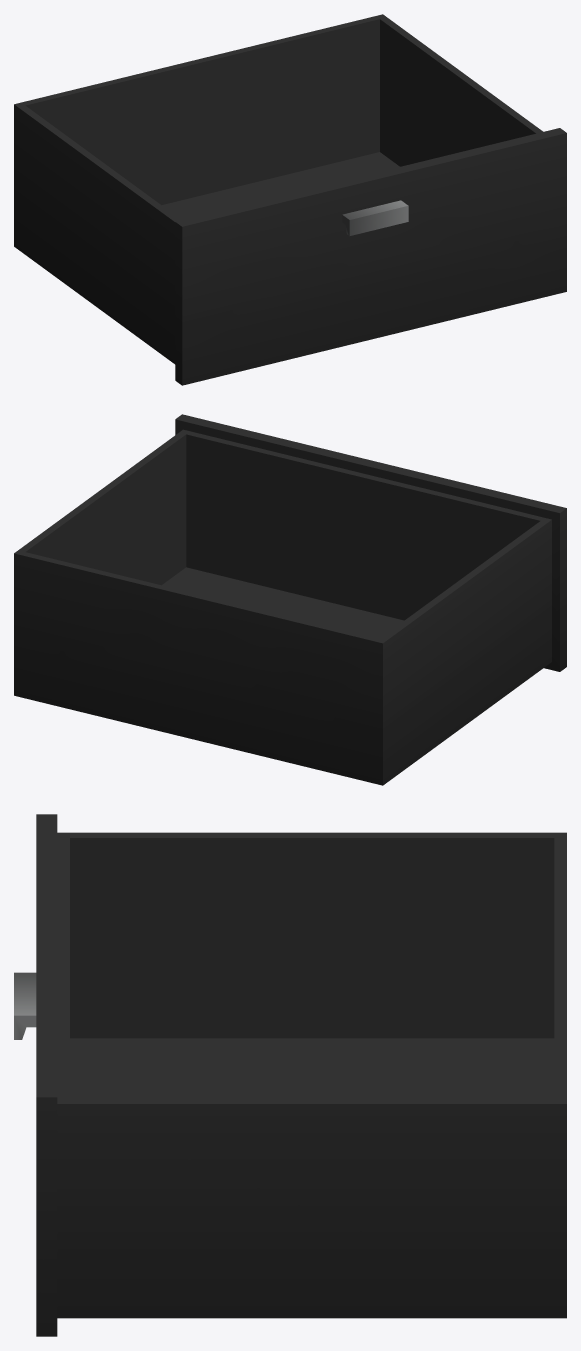
Rendered from Drawer_SideboardCabinet_Black_large.fbx.
The picture shows the model from 3 angles, top to bottom: view 1: azimuth 30°, elevation 25°; view 2: azimuth 150°, elevation 25°; view 3: azimuth 270°, elevation 25°; orthographic projection. The views are drawn at different scales.
Visible parts, largest first — view 1: Drawer_SideboardCabinet_Black_large; view 2: Drawer_SideboardCabinet_Black_large; view 3: Drawer_SideboardCabinet_Black_large.
Boxes of the visible parts, bbox=[...] form: Drawer_SideboardCabinet_Black_large: bbox=[14, 14, 566, 385]; Drawer_SideboardCabinet_Black_large: bbox=[14, 414, 566, 785]; Drawer_SideboardCabinet_Black_large: bbox=[14, 814, 566, 1336].
Bounding box in the file's own units: 78.47 × 30.96 × 64.83.
